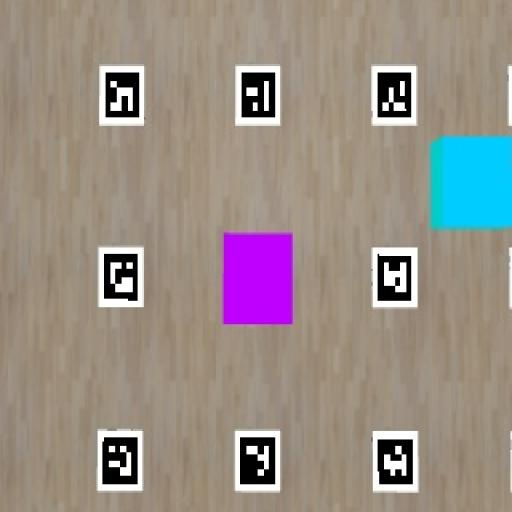car: (431, 135, 511, 230), (223, 233, 292, 324)
